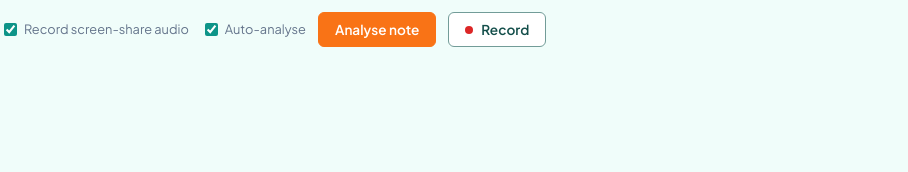
Test: what the user is told when an analysis fails › says the note no longer exists rather than advising a retry that cannot work
Click the button "Analyse note" at (377, 30), box [318, 12, 436, 47]
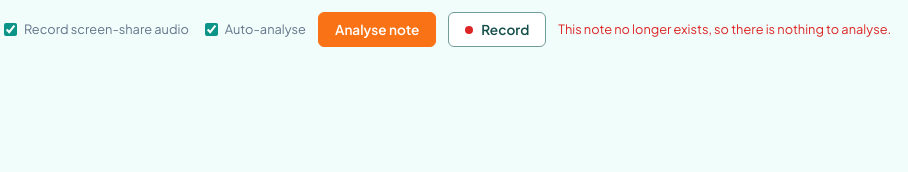
Now the message "This note no longer exists, so there is nothing to analyse." is shown, box [558, 19, 891, 40]
Now the message with test id "transcription-analyse-error" shows "no longer exists", box [558, 21, 891, 37]
